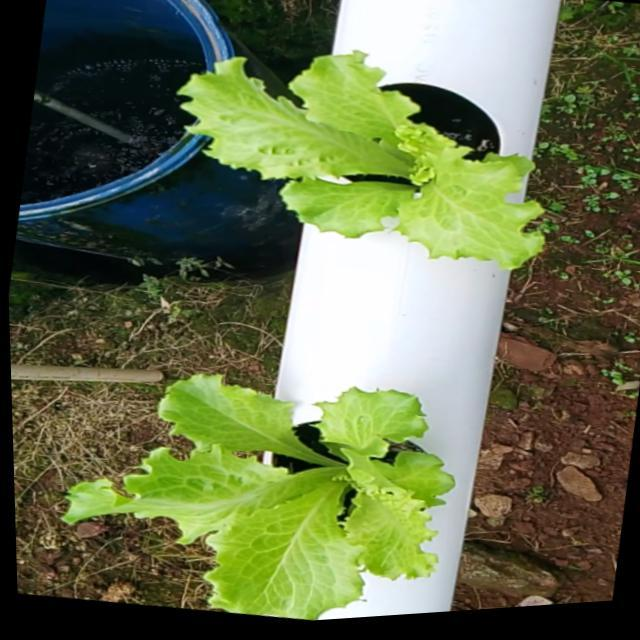Baby: (60, 357, 449, 612), (164, 24, 537, 245)
